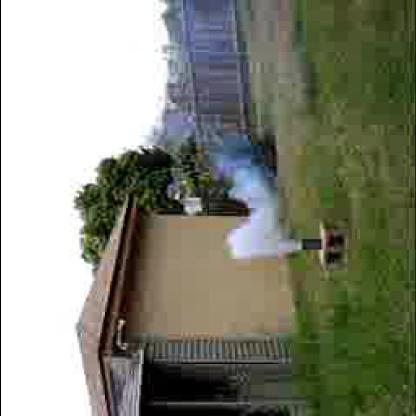Smoke: (216, 157, 300, 256)
